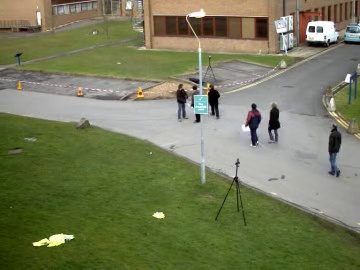person: (176, 81, 196, 120), (174, 82, 194, 120), (174, 82, 193, 120)
